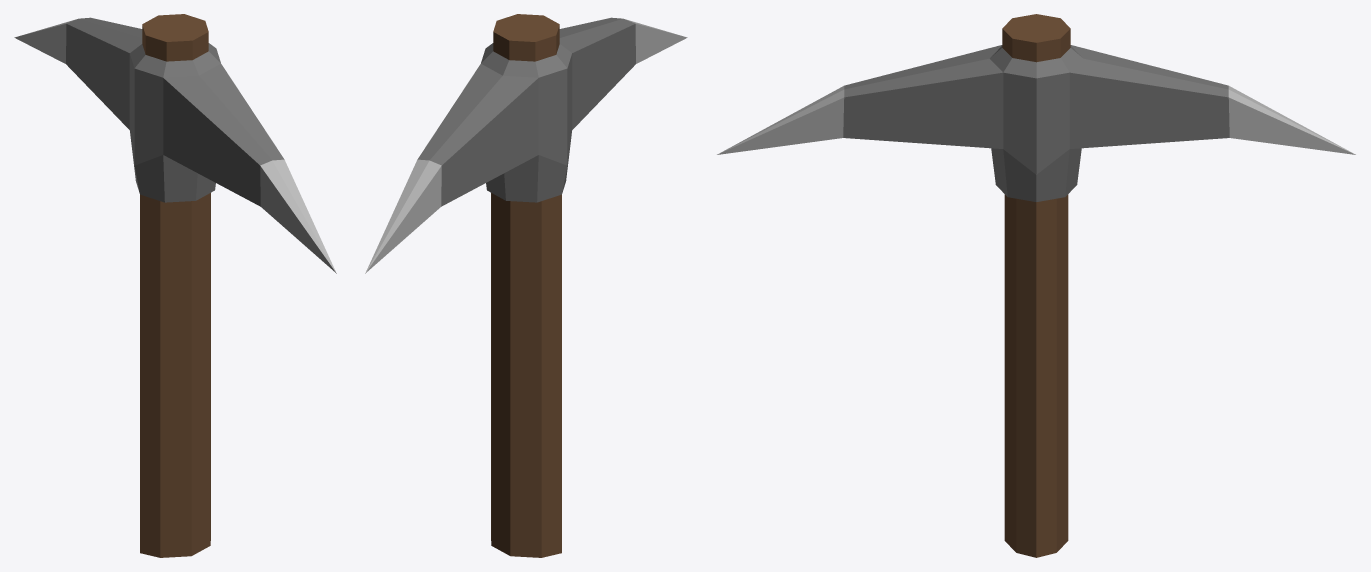
The model's file is Pickaxe Original.fbx.
The picture shows the model from 3 angles, left to right: view 1: azimuth 30°, elevation 25°; view 2: azimuth 150°, elevation 25°; view 3: azimuth 270°, elevation 25°; orthographic projection.
Parts seen in each view (by area): view 1: Pickaxe; view 2: Pickaxe; view 3: Pickaxe.
Boxes of the visible parts, x1=… form: Pickaxe: x1=14, y1=14, x2=336, y2=557; Pickaxe: x1=365, y1=14, x2=687, y2=557; Pickaxe: x1=717, y1=14, x2=1355, y2=557.
Bounding box in the file's own units: 231 × 1390 × 1575.
